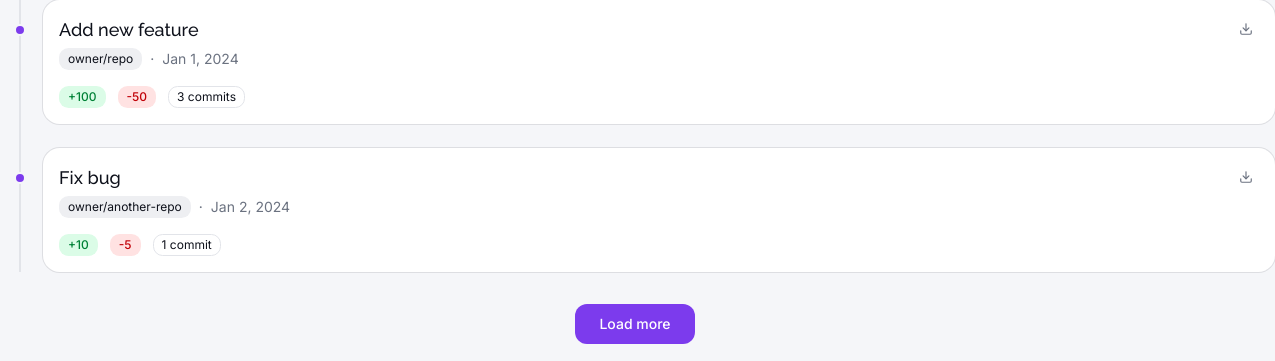
Scenario: FeedClient › should show error message on fetch failure
Click the button "Load more".
click(635, 324)  # box [575,304,694,344]
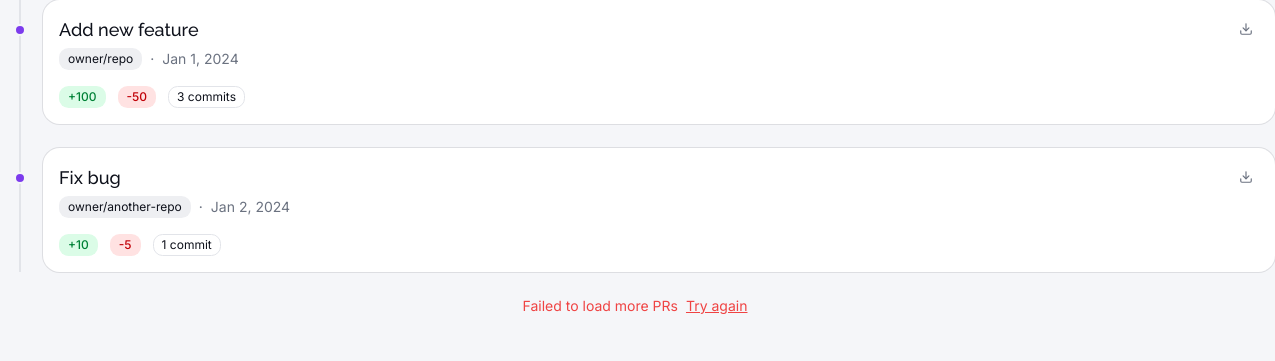
Check: the text "Failed to load more PRs Try again" is shown, box [522,296,748,316]
